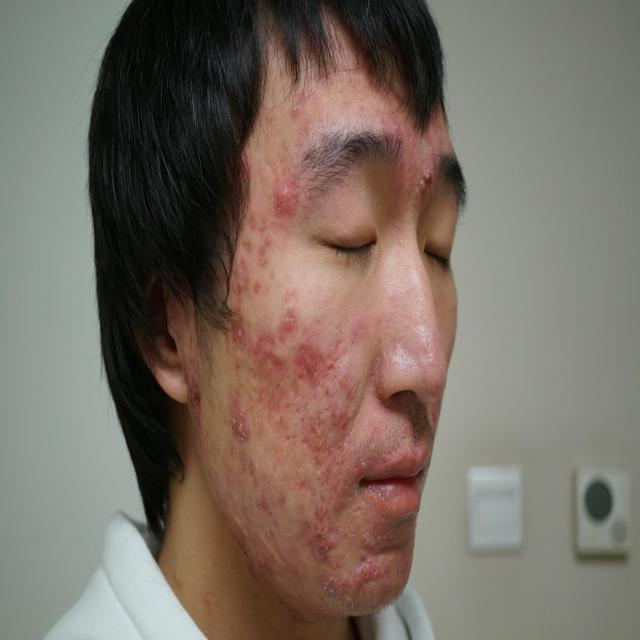acne: (320, 330, 347, 381), (274, 179, 298, 224), (228, 402, 252, 446), (406, 164, 435, 198), (328, 464, 353, 503), (232, 317, 260, 350), (235, 255, 258, 293), (278, 280, 306, 311), (308, 524, 333, 558), (276, 307, 300, 342), (346, 309, 369, 345), (233, 148, 256, 184), (267, 482, 293, 513), (270, 547, 297, 575), (252, 489, 277, 518), (347, 564, 381, 585), (319, 565, 338, 602), (253, 238, 279, 264), (351, 451, 372, 482), (259, 332, 279, 364), (191, 381, 206, 423), (384, 85, 407, 112), (327, 402, 346, 434), (343, 585, 366, 611), (282, 429, 303, 457), (230, 512, 250, 541), (385, 125, 403, 156), (294, 473, 315, 499), (239, 495, 256, 527), (302, 345, 320, 374), (300, 415, 321, 439), (283, 83, 299, 114), (297, 391, 316, 417), (273, 349, 291, 376), (233, 542, 252, 567), (221, 299, 243, 320), (336, 373, 353, 400), (250, 278, 267, 304), (345, 407, 362, 433), (238, 456, 259, 477), (238, 236, 256, 260), (427, 111, 443, 138), (317, 65, 334, 90), (378, 555, 393, 583), (256, 391, 275, 413), (230, 349, 246, 375), (259, 553, 273, 582), (244, 212, 263, 233), (376, 581, 398, 599), (277, 136, 295, 158), (275, 376, 292, 399), (246, 560, 261, 586), (297, 119, 312, 145), (295, 494, 311, 518), (265, 524, 283, 545), (330, 438, 346, 460), (264, 106, 278, 130), (319, 383, 336, 402), (311, 441, 325, 464), (360, 528, 375, 549), (355, 549, 371, 568), (269, 409, 284, 428), (302, 80, 313, 105), (308, 508, 325, 524)
